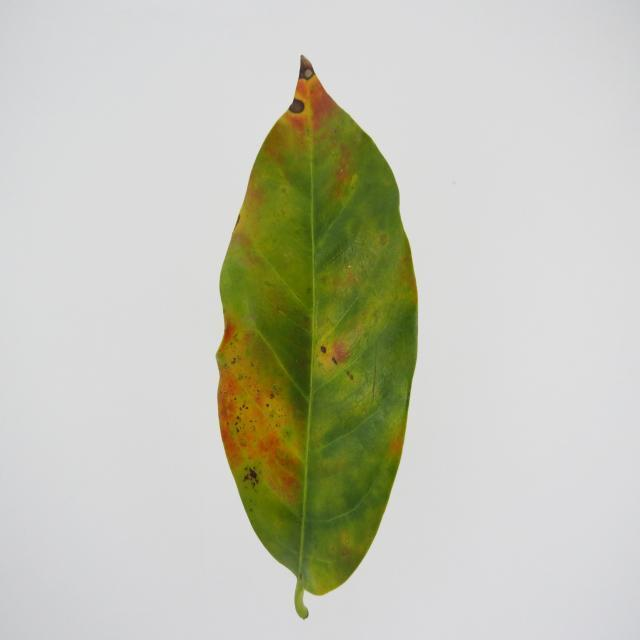DeficienciaNutricional-Fosforo: (216, 57, 418, 618)
